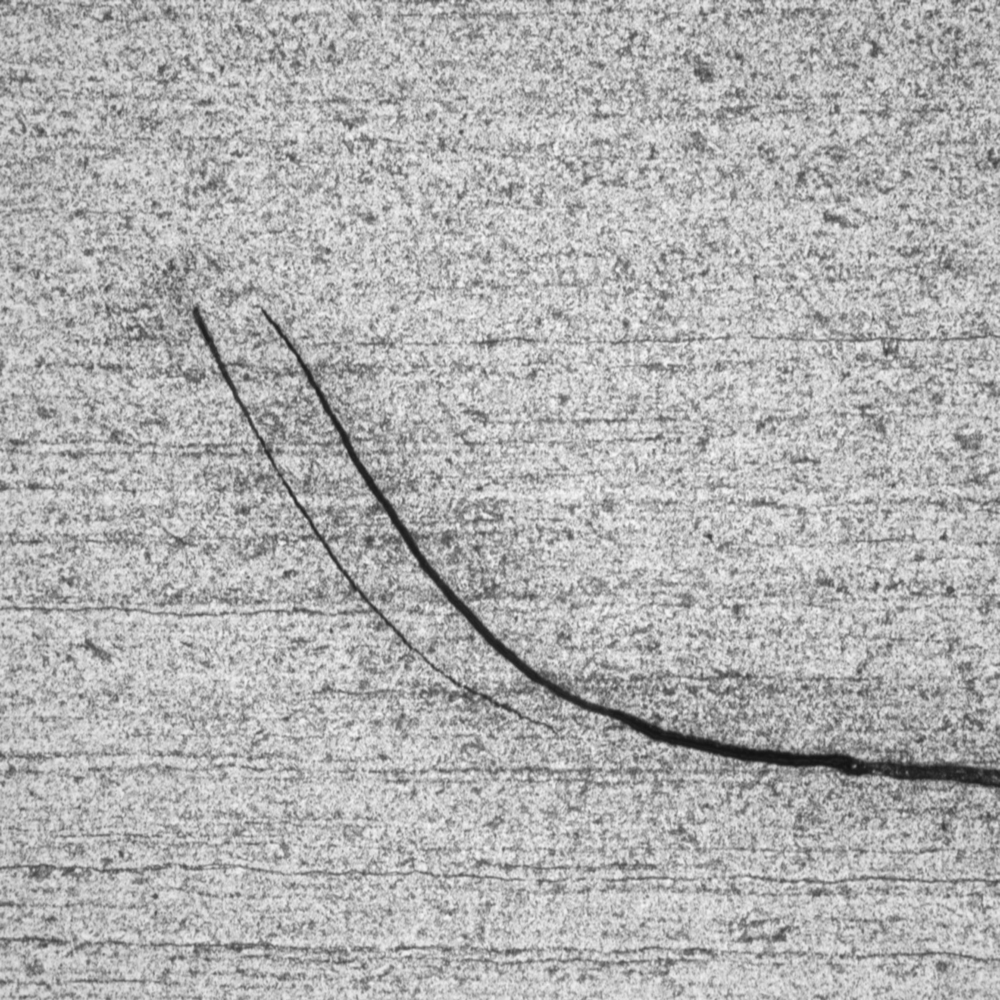crack: (162, 283, 988, 811)
